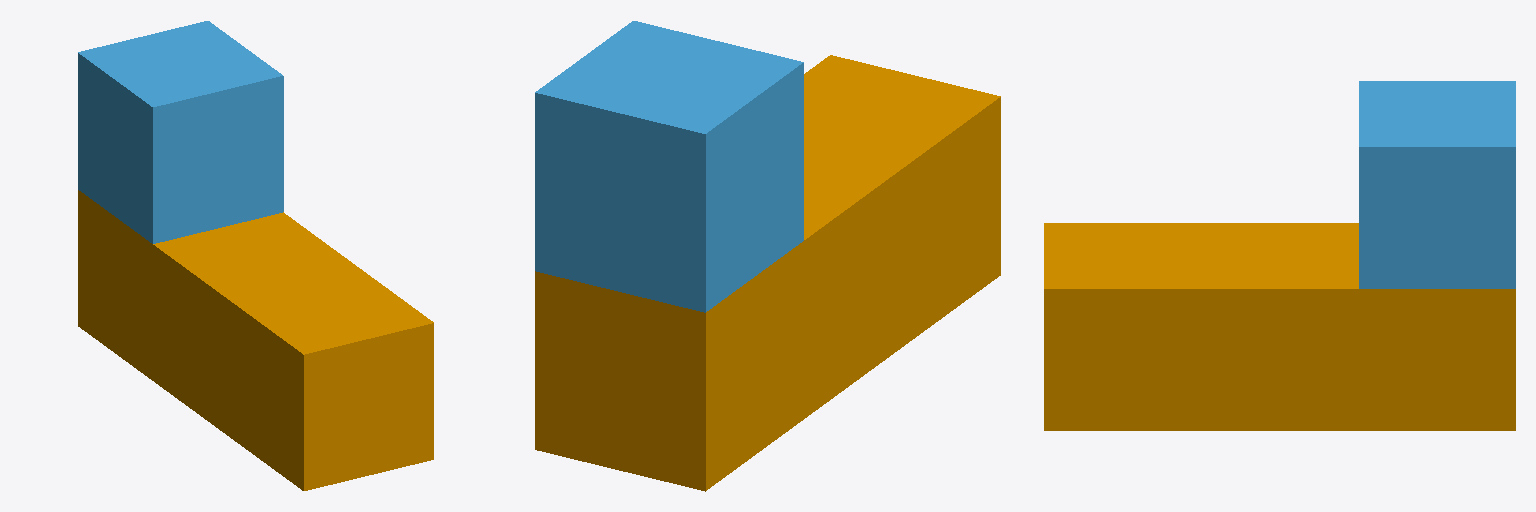
robot.urdf — multipleshapes:
<?xml version="1.0"?>
<robot name="multipleshapes">
  <link name="cuboid">
    <inertial>
      <mass value="2"/>
    	<inertia ixx="0.333" ixy="0" ixz="0" iyy="0.833" iyz="0" izz="0.833"/>
  	</inertial>
    <collision>
      <geometry>
        <box size="1 3 1"/>
      </geometry>
    </collision>
    <visual>
      <geometry>
        <box size="1 3 1"/>
      </geometry>
    </visual>
  </link>

  <link name="cube">

    <inertial>
      <mass value="1"/>
    	<inertia ixx="0.167" ixy="0" ixz="0" iyy="0.167" iyz="0" izz="0.167"/>
  	</inertial>

    <collision>
      <geometry>
        <box size="1 1 1"/>
      </geometry>
	<origin rpy="0 0 0" xyz="0 1 1"/>
    </collision>
    <visual>
      <geometry>
        <box size="1 1 1"/>
      </geometry>
	<origin rpy="0 0 0" xyz="0 1 1"/>
    </visual>
  </link>

  <joint name="base_to_right_leg" type="fixed">
    <parent link="cuboid"/>
    <child link="cube"/>
  </joint>

</robot>

--- What the picture shows (computed from the rendered views, not written in the file) ---
Views: 3 orthographic renders of the robot side by side, from view 1: azimuth 30°, elevation 25°; view 2: azimuth 150°, elevation 25°; view 3: azimuth 270°, elevation 25°.
Model multipleshapes with 2 links and 1 joints (1 fixed), rooted at cuboid, posed every joint at zero.
Visible links, largest first — view 1: cuboid, cube; view 2: cuboid, cube; view 3: cuboid, cube.
Boxes of the visible links, x1,y1,x2,y2 form: cuboid: (78,190,433,490); cube: (78,21,283,243); cuboid: (535,55,1000,491); cube: (535,21,803,312); cuboid: (1044,223,1515,430); cube: (1359,81,1515,288).
Bounding box of the posed robot: 1 × 3 × 2 m (x, y, z).
Geometry: primitives only (box / cylinder / sphere), no mesh files.